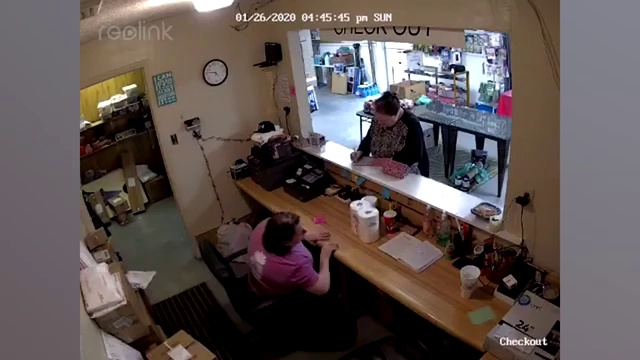face: (375, 109, 395, 131), (288, 224, 306, 245)
